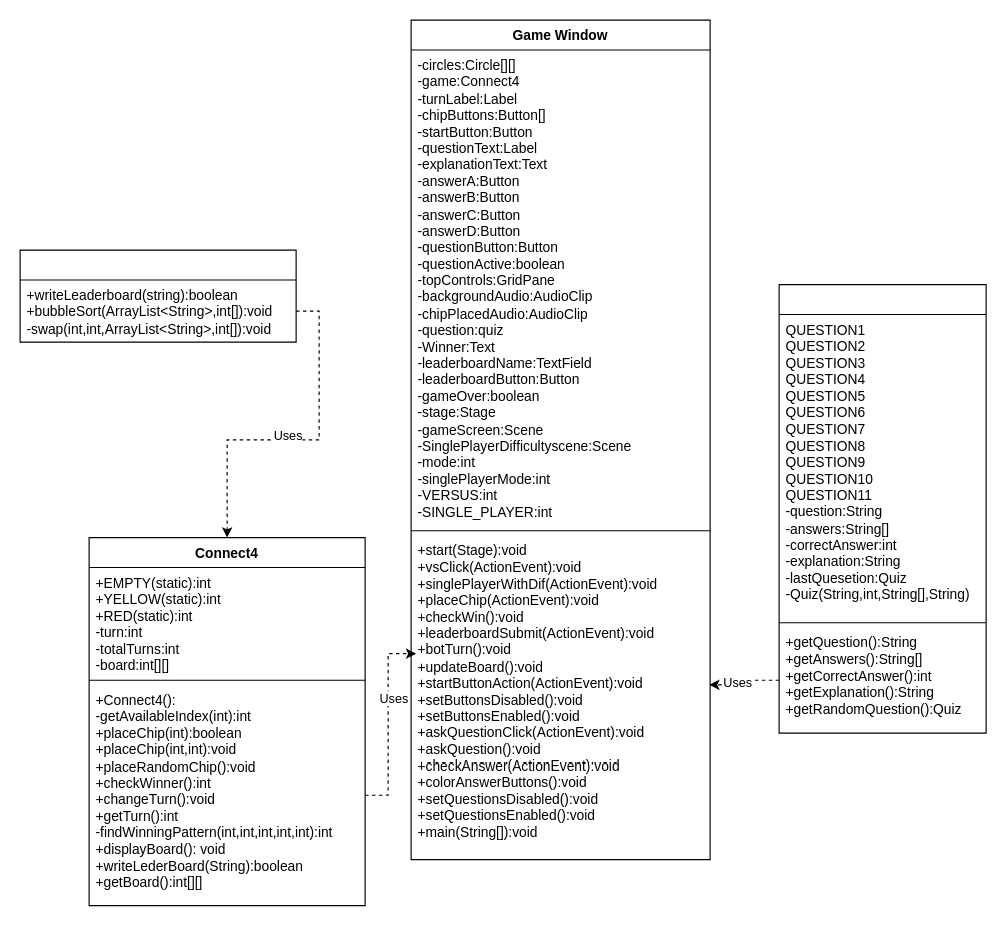
The diagram is 1006 pixels wide and 929 high, and some of its shapes have lost their labels. The shapes that lost their labels are listed below. From the top down, each one's box as (x1, y1, x2, y2) in pixels, then its label:
(19, 249, 296, 342): <abstract>Leaderboardable
(778, 283, 986, 733): <enum>Quiz
